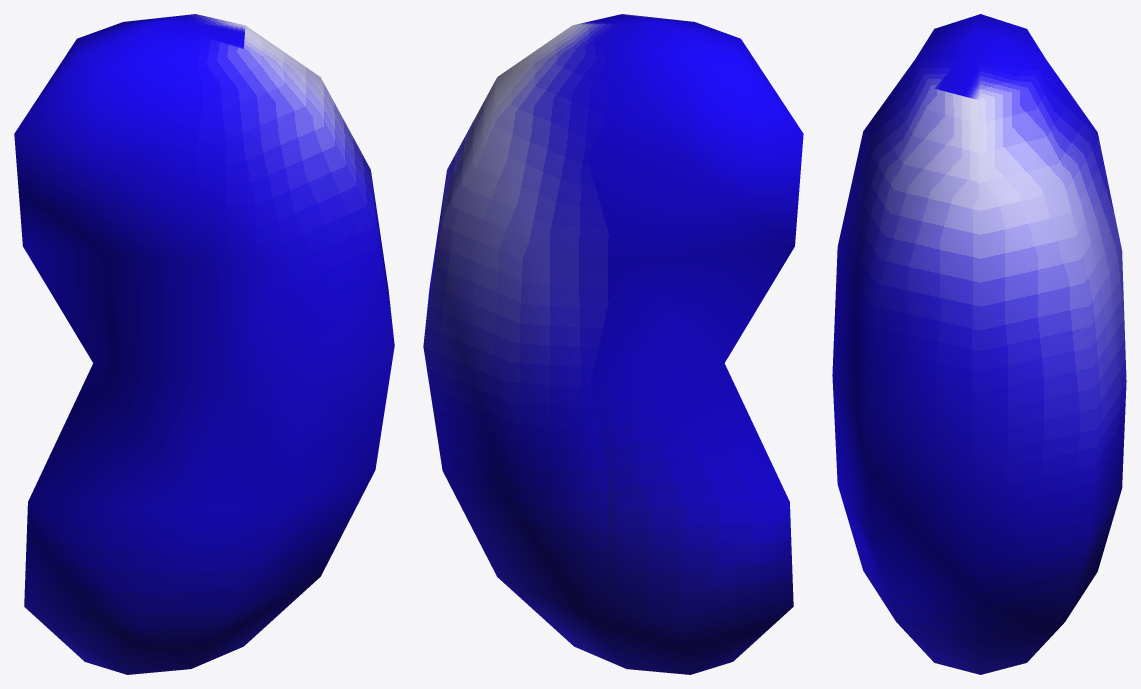
Rendered from bean3.obj.
The picture shows the model from 3 angles, left to right: view 1: azimuth 30°, elevation 25°; view 2: azimuth 150°, elevation 25°; view 3: azimuth 270°, elevation 25°; orthographic projection. The views are drawn at different scales.
Parts seen in each view (by area): view 1: bean:Mesh; view 2: bean:Mesh; view 3: bean:Mesh.
Part boxes in pixels (left/top/right/bottom): bean:Mesh: left=14, top=14, right=394, bottom=674; bean:Mesh: left=423, top=14, right=803, bottom=674; bean:Mesh: left=832, top=14, right=1126, bottom=674.
Size of the model in its own units: 20.6 by 34.01 by 14.58.
